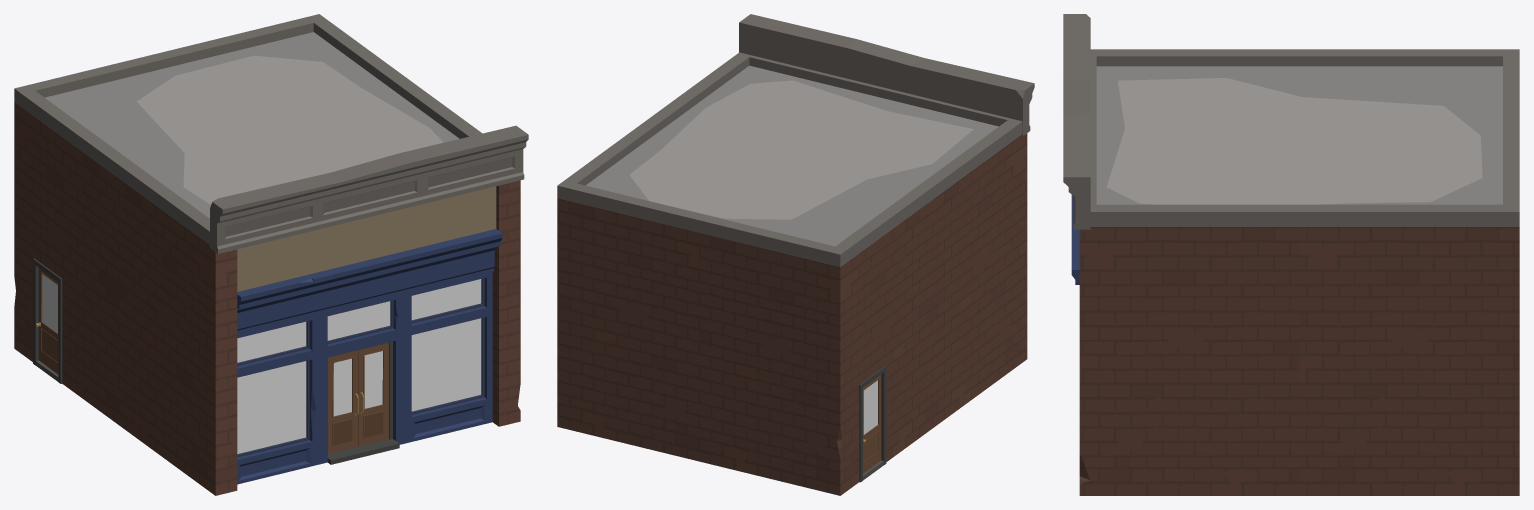
Rendered from SM_Bldg_City_Shop_07.fbx.
3 views of the same model, side by side, from view 1: azimuth 30°, elevation 25°; view 2: azimuth 150°, elevation 25°; view 3: azimuth 270°, elevation 25° (orthographic). The views are drawn at different scales.
Parts seen in each view (by area): view 1: SM_Bldg_City_Shop_07, SM_Bldg_City_Shop_07_Glass; view 2: SM_Bldg_City_Shop_07; view 3: SM_Bldg_City_Shop_07.
Part boxes in pixels (left/top/right/bottom): SM_Bldg_City_Shop_07: left=14, top=14, right=528, bottom=495; SM_Bldg_City_Shop_07_Glass: left=237, top=279, right=481, bottom=453; SM_Bldg_City_Shop_07: left=557, top=14, right=1034, bottom=495; SM_Bldg_City_Shop_07: left=1063, top=14, right=1519, bottom=495.
Bounding box in the file's own units: 707 × 642 × 830.
